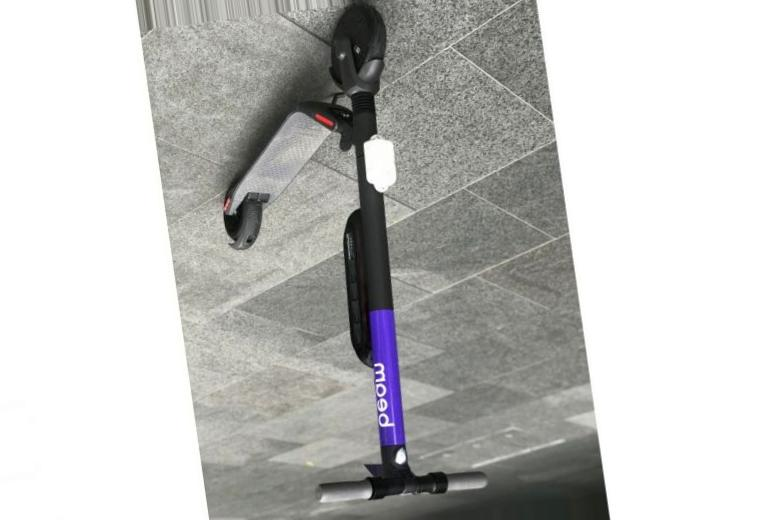scooter: (220, 1, 491, 506)
